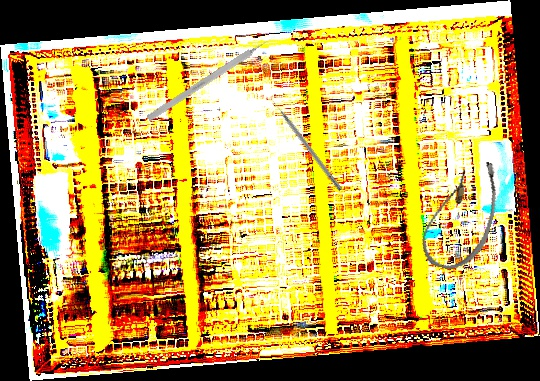Cannula: (416, 150, 508, 278)
Hook Surgical: (146, 33, 277, 122), (267, 94, 344, 192)
